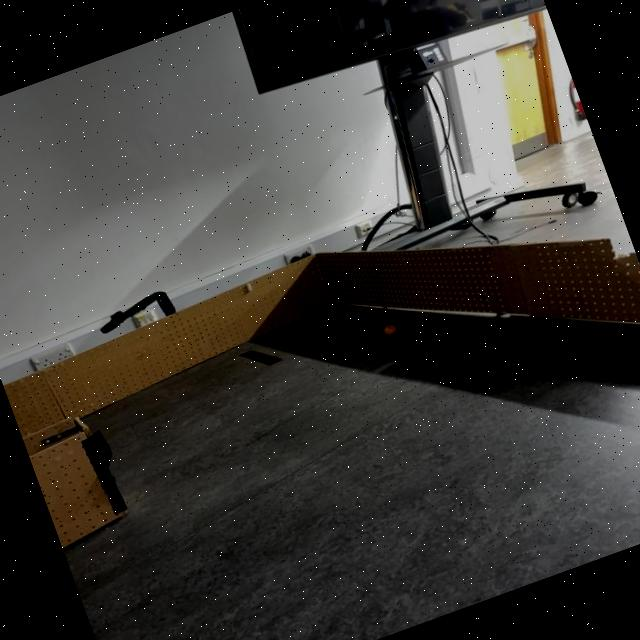ping-pong-ball: (382, 322, 400, 337)
